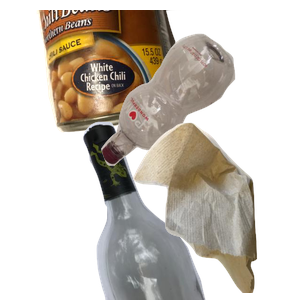glass: (81, 120, 300, 300)
metal: (34, 10, 213, 135)
plastic: (99, 31, 300, 189)
trash: (131, 120, 300, 300)
